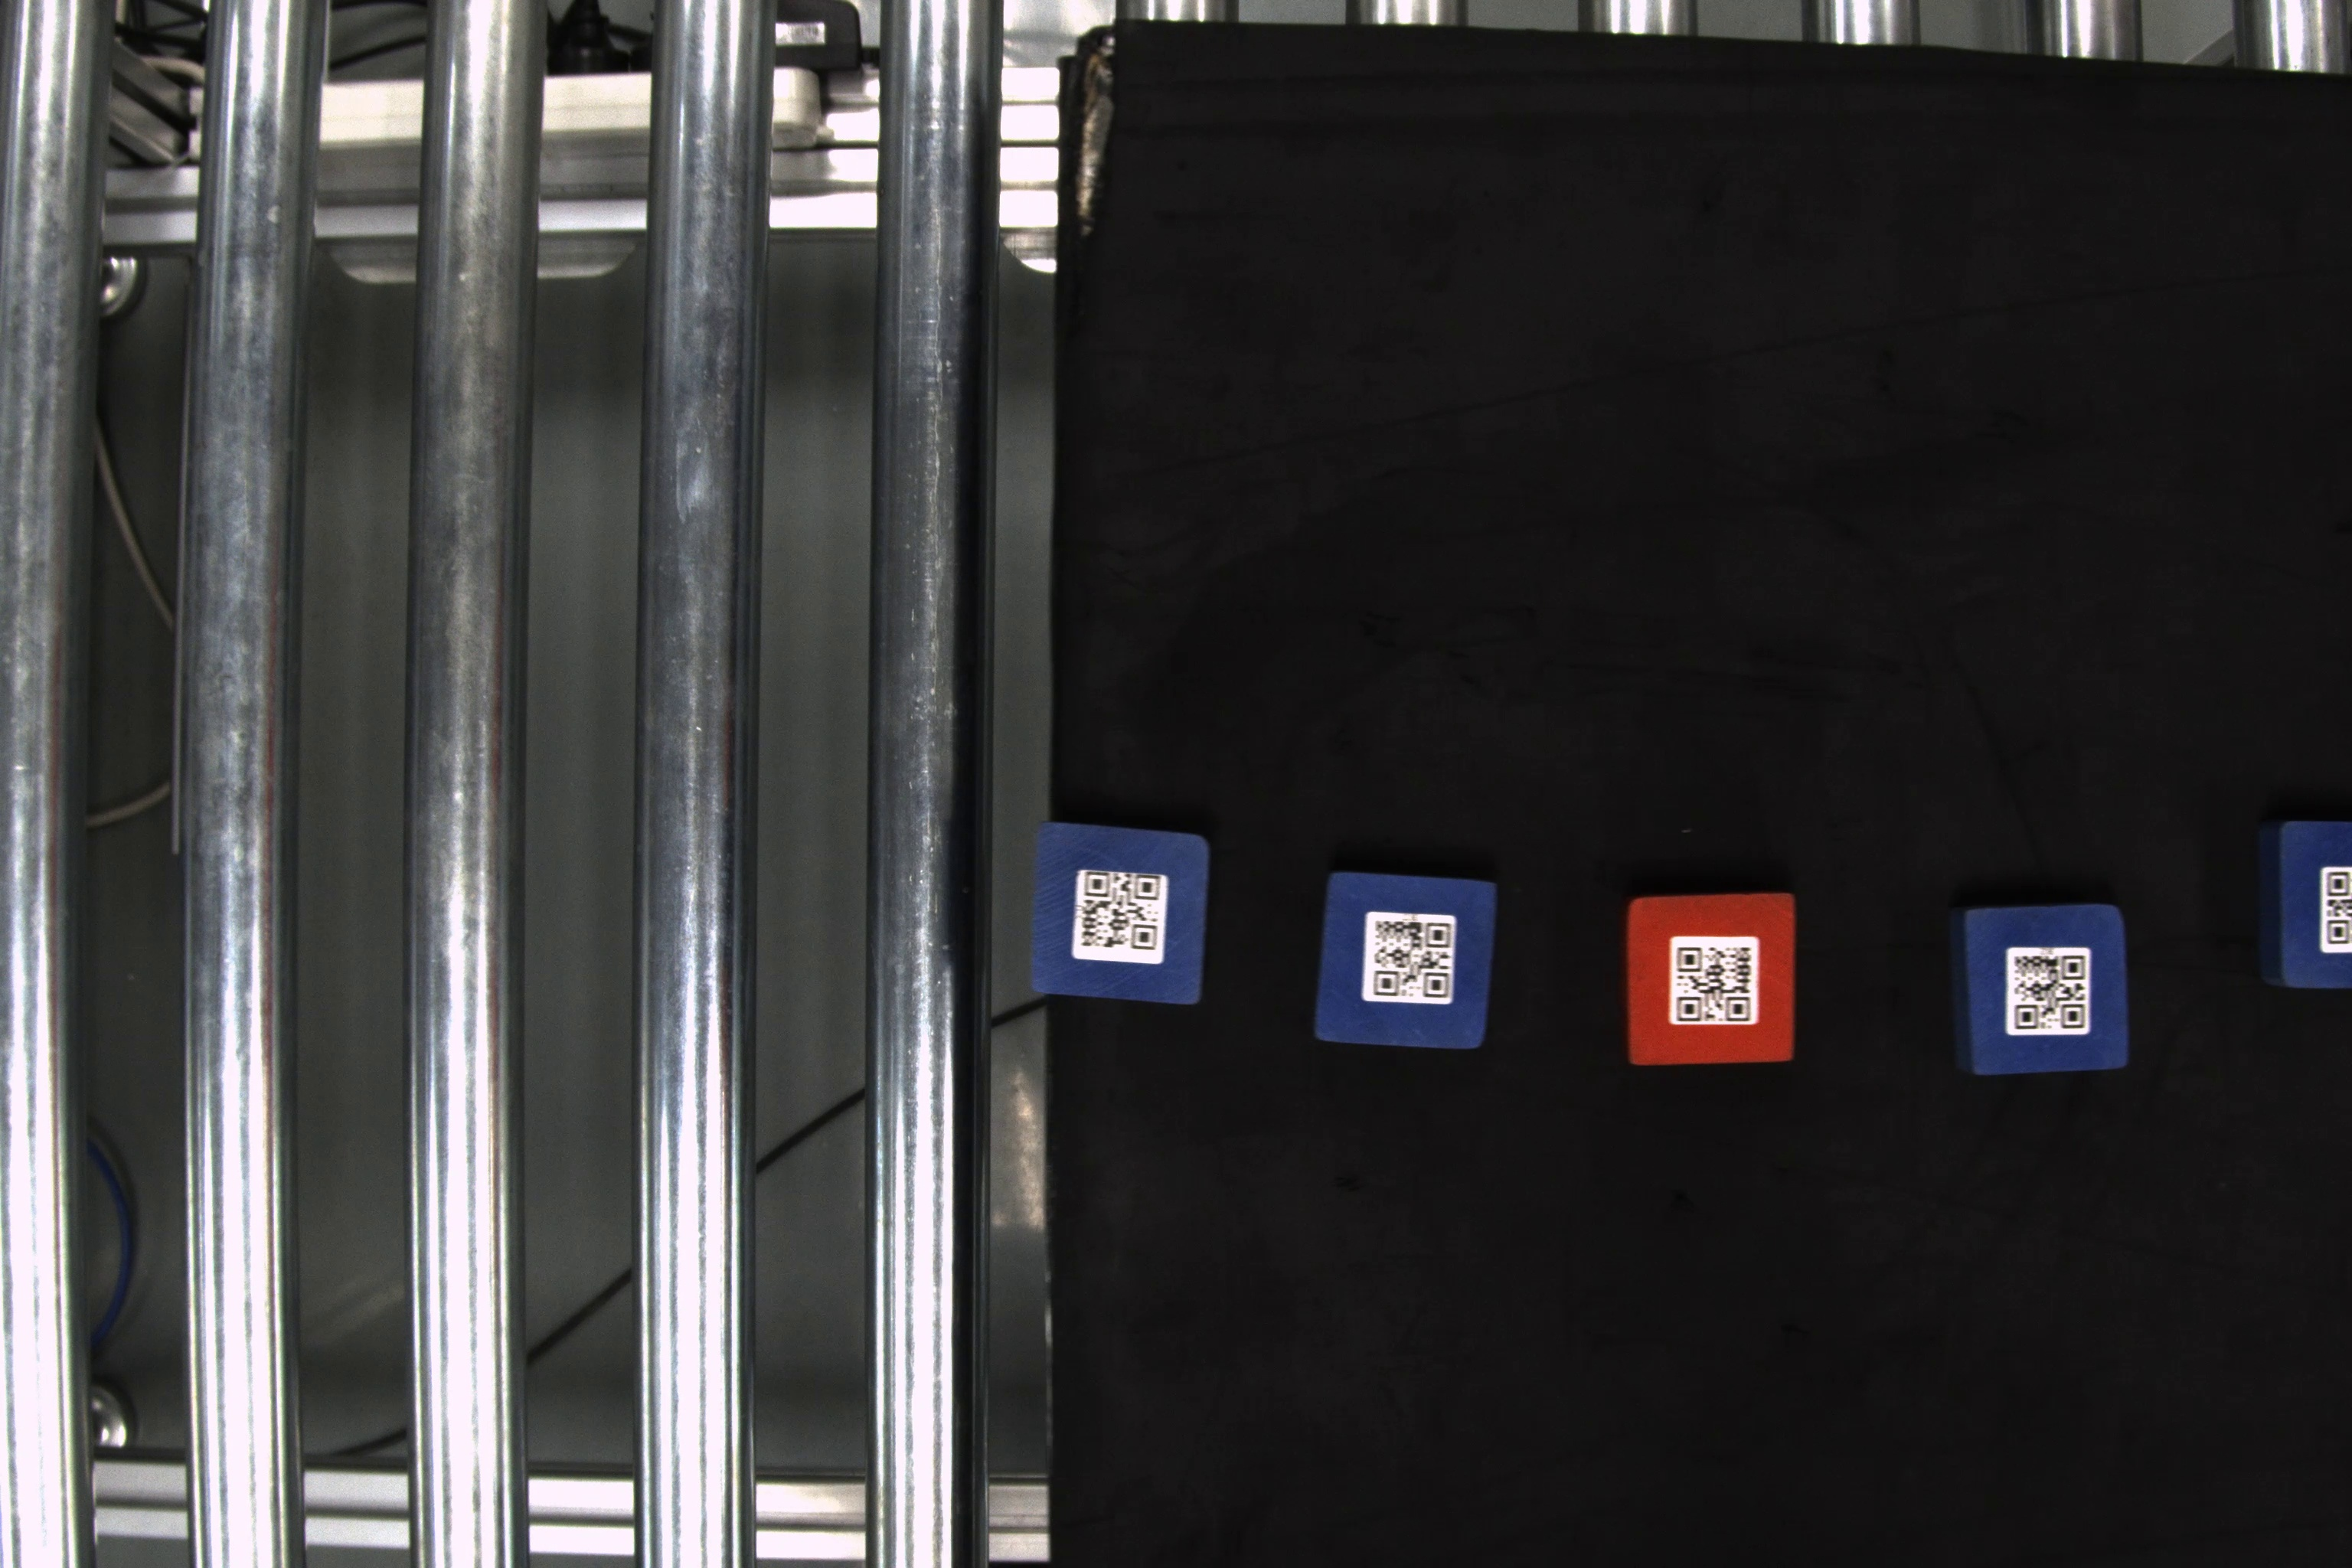wood: (1027, 819, 1214, 1011), (1617, 891, 1806, 1073), (1319, 871, 1501, 1048), (1953, 906, 2135, 1081), (2252, 815, 2348, 996)
